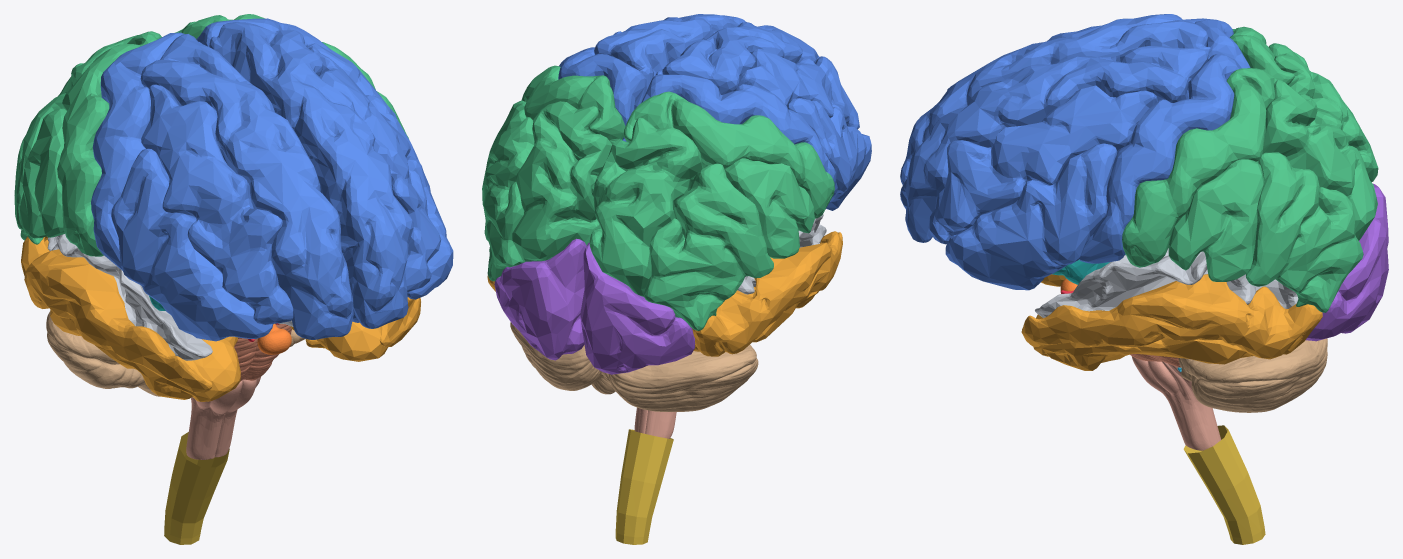
File: brain-only.glb
3 renders of one model, left to right at view 1: azimuth 30°, elevation 25°; view 2: azimuth 150°, elevation 25°; view 3: azimuth 270°, elevation 25°, orthographic. The views are drawn at different scales.
Visible parts, largest first — view 1: frontal_r, frontal_l, temporal_r, parietal_r, spinal_bridge, deep_r, cerebellum, medulla, temporal_l, pons, parietal_l, pituitary; view 2: parietal_r, parietal_l, frontal_r, cerebellum, occipital_r, temporal_r, occipital_l, frontal_l, spinal_bridge, medulla, deep_r; view 3: frontal_l, parietal_l, temporal_l, frontal_r, cerebellum, deep_l, parietal_r, spinal_bridge, occipital_l, medulla, insula_l.
Boxes of the visible parts, bbox=[...] form: frontal_r: bbox=[91, 32, 353, 341]; frontal_l: bbox=[196, 18, 453, 328]; temporal_r: bbox=[21, 236, 240, 401]; parietal_r: bbox=[14, 31, 161, 256]; spinal_bridge: bbox=[164, 432, 229, 544]; deep_r: bbox=[47, 234, 293, 360]; cerebellum: bbox=[46, 311, 305, 396]; medulla: bbox=[186, 377, 260, 459]; temporal_l: bbox=[290, 297, 420, 361]; pons: bbox=[234, 324, 291, 381]; parietal_l: bbox=[175, 14, 408, 138]; pituitary: bbox=[257, 324, 291, 354]; parietal_r: bbox=[589, 91, 834, 330]; parietal_l: bbox=[482, 65, 625, 281]; frontal_r: bbox=[641, 22, 871, 210]; cerebellum: bbox=[510, 322, 758, 411]; occipital_r: bbox=[580, 242, 695, 374]; temporal_r: bbox=[692, 231, 842, 356]; occipital_l: bbox=[494, 238, 586, 360]; frontal_l: bbox=[558, 14, 745, 141]; spinal_bridge: bbox=[615, 429, 673, 544]; medulla: bbox=[634, 407, 676, 438]; deep_r: bbox=[737, 214, 826, 294]; frontal_l: bbox=[900, 46, 1239, 290]; parietal_l: bbox=[1122, 68, 1377, 312]; temporal_l: bbox=[1021, 274, 1322, 370]; frontal_r: bbox=[900, 14, 1250, 185]; cerebellum: bbox=[1178, 338, 1327, 412]; deep_l: bbox=[1035, 248, 1298, 317]; parietal_r: bbox=[1230, 26, 1378, 182]; spinal_bridge: bbox=[1183, 425, 1265, 544]; occipital_l: bbox=[1305, 218, 1388, 341]; medulla: bbox=[1131, 356, 1221, 450]; insula_l: bbox=[1052, 254, 1125, 284].
Size of the model in its own units: 0.1388 by 0.2049 by 0.18.
